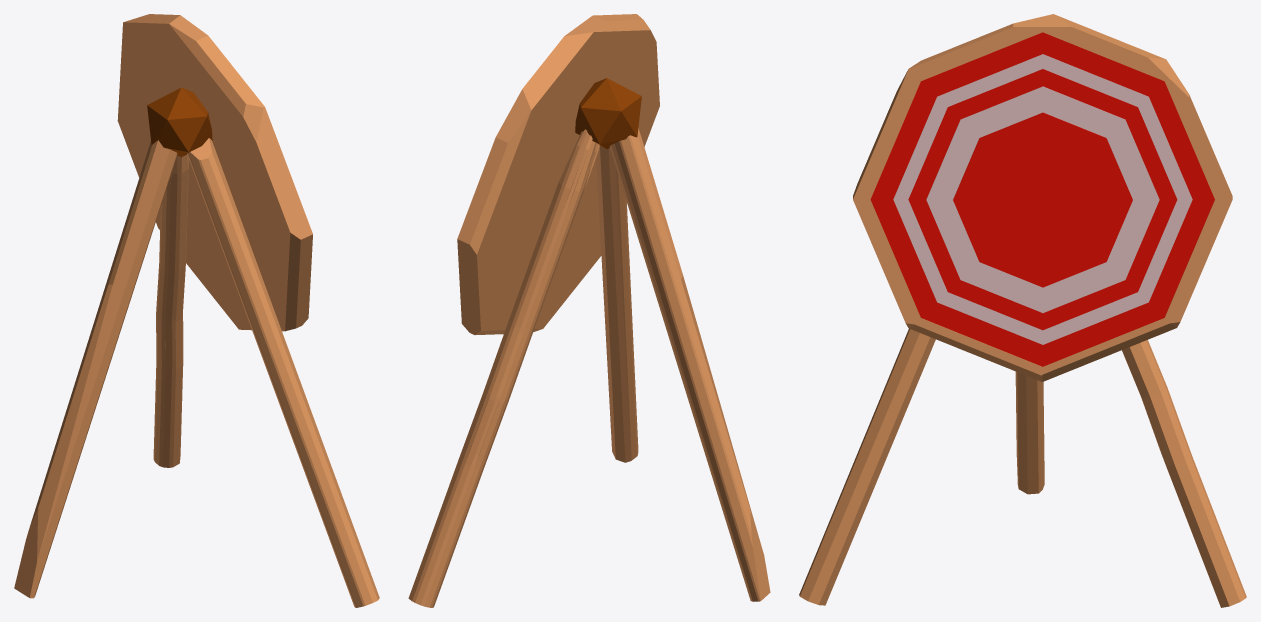
Rendered from Archer_1.fbx.
The picture shows the model from 3 angles, left to right: view 1: azimuth 30°, elevation 25°; view 2: azimuth 150°, elevation 25°; view 3: azimuth 270°, elevation 25°; orthographic projection. The views are drawn at different scales.
Parts seen in each view (by area): view 1: Cylinder.093, Cylinder.099, Cylinder.101, Cylinder.100, Icosphere.016; view 2: Cylinder.093, Cylinder.101, Cylinder.100, Cylinder.099, Icosphere.016; view 3: Cylinder.098, Cylinder.094, Cylinder.093, Cylinder.097, Cylinder.096, Cylinder.095, Cylinder.099, Cylinder.100, Cylinder.101.
Boxes of the visible parts, x1,y1,x2,y2 form: Cylinder.093: (117,14,312,331); Cylinder.099: (187,138,379,607); Cylinder.101: (14,140,177,598); Cylinder.100: (153,154,188,467); Icosphere.016: (147,87,212,157); Cylinder.093: (457,14,659,335); Cylinder.101: (609,128,770,601); Cylinder.100: (408,129,599,607); Cylinder.099: (596,146,638,462); Icosphere.016: (575,78,641,148); Cylinder.098: (953,112,1132,287); Cylinder.094: (870,32,1214,366); Cylinder.093: (853,14,1232,381); Cylinder.097: (926,86,1159,312); Cylinder.096: (908,69,1177,330); Cylinder.095: (893,54,1192,344); Cylinder.099: (799,328,935,605); Cylinder.100: (1122,340,1246,607); Cylinder.101: (1015,371,1044,494).
Bounding box in the file's own units: 289 × 572 × 418.
